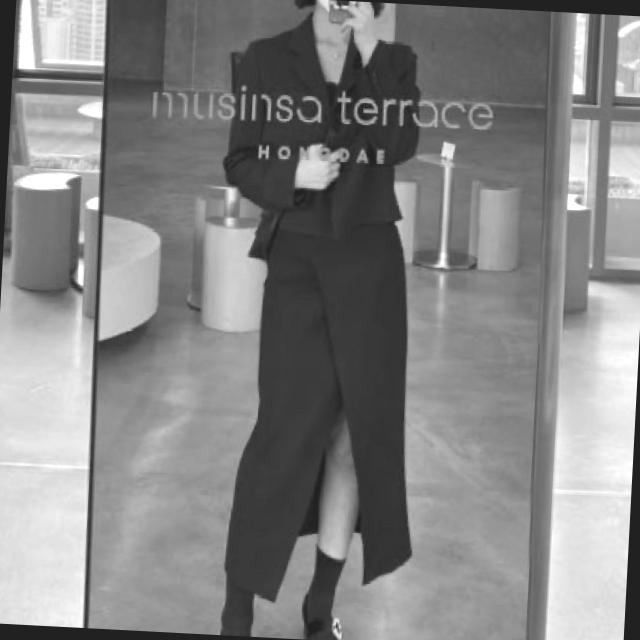blazer: (220, 15, 422, 232)
skirt: (218, 180, 430, 610)
